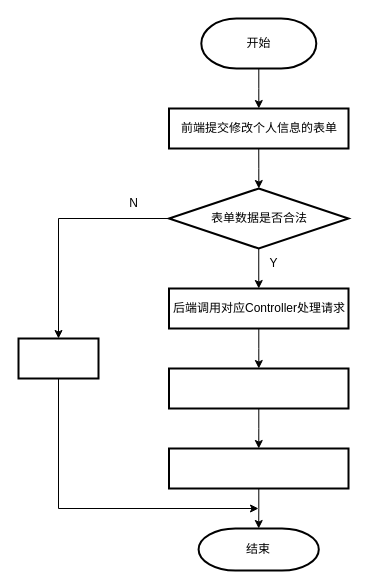
Some shapes in this 366 by 588 pixel diagram are drawn without their labels. The centre of each missing label's shape, as x and y in pixels:
后端将区块链返回结果处理返回处理结果: the point at 258,468
向区块链发起修改用户信息的请求: the point at 258,388
返回error: the point at 58,358
